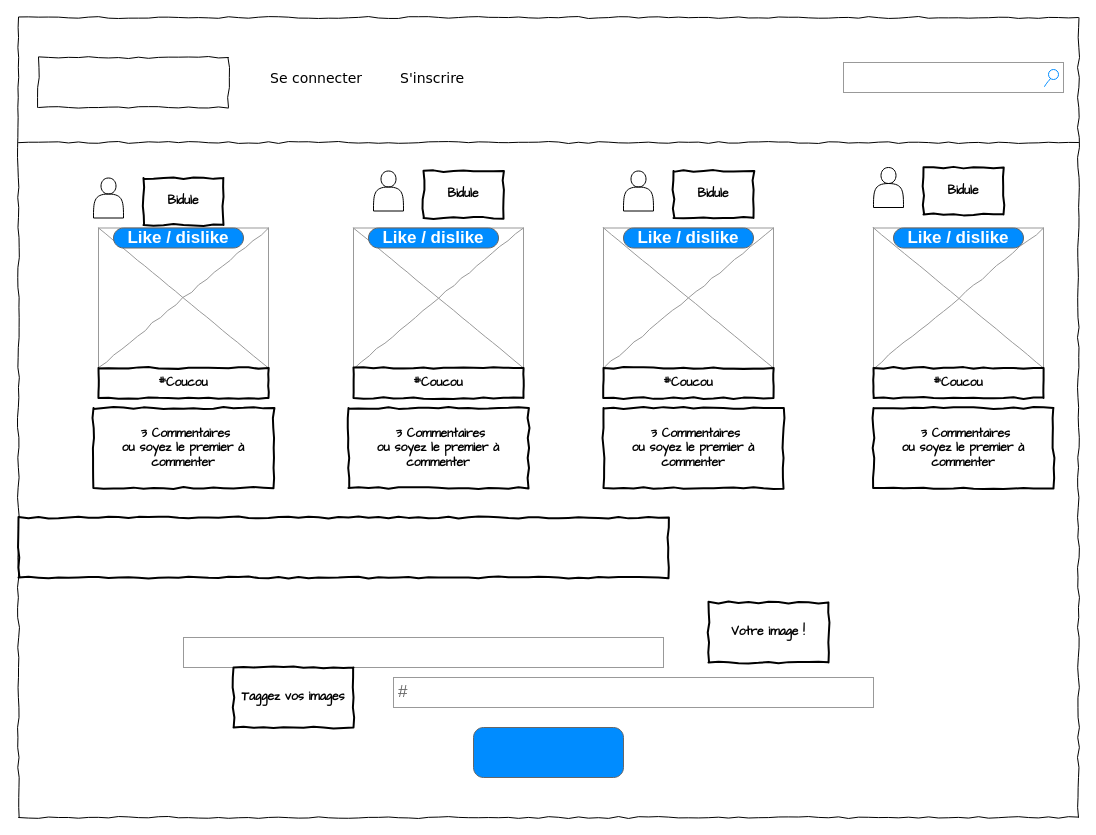
Image size: 1096x835. Some labels were removed from this diagram. The centre of each missing label's shape, as x and y in pixels:
"LOGO" belongs at point 133,82.
"Sans être connecté, testez avec un premier upload !" belongs at point 343,547.
"Search" belongs at point 953,77.
"Uploader" belongs at point 548,752.
